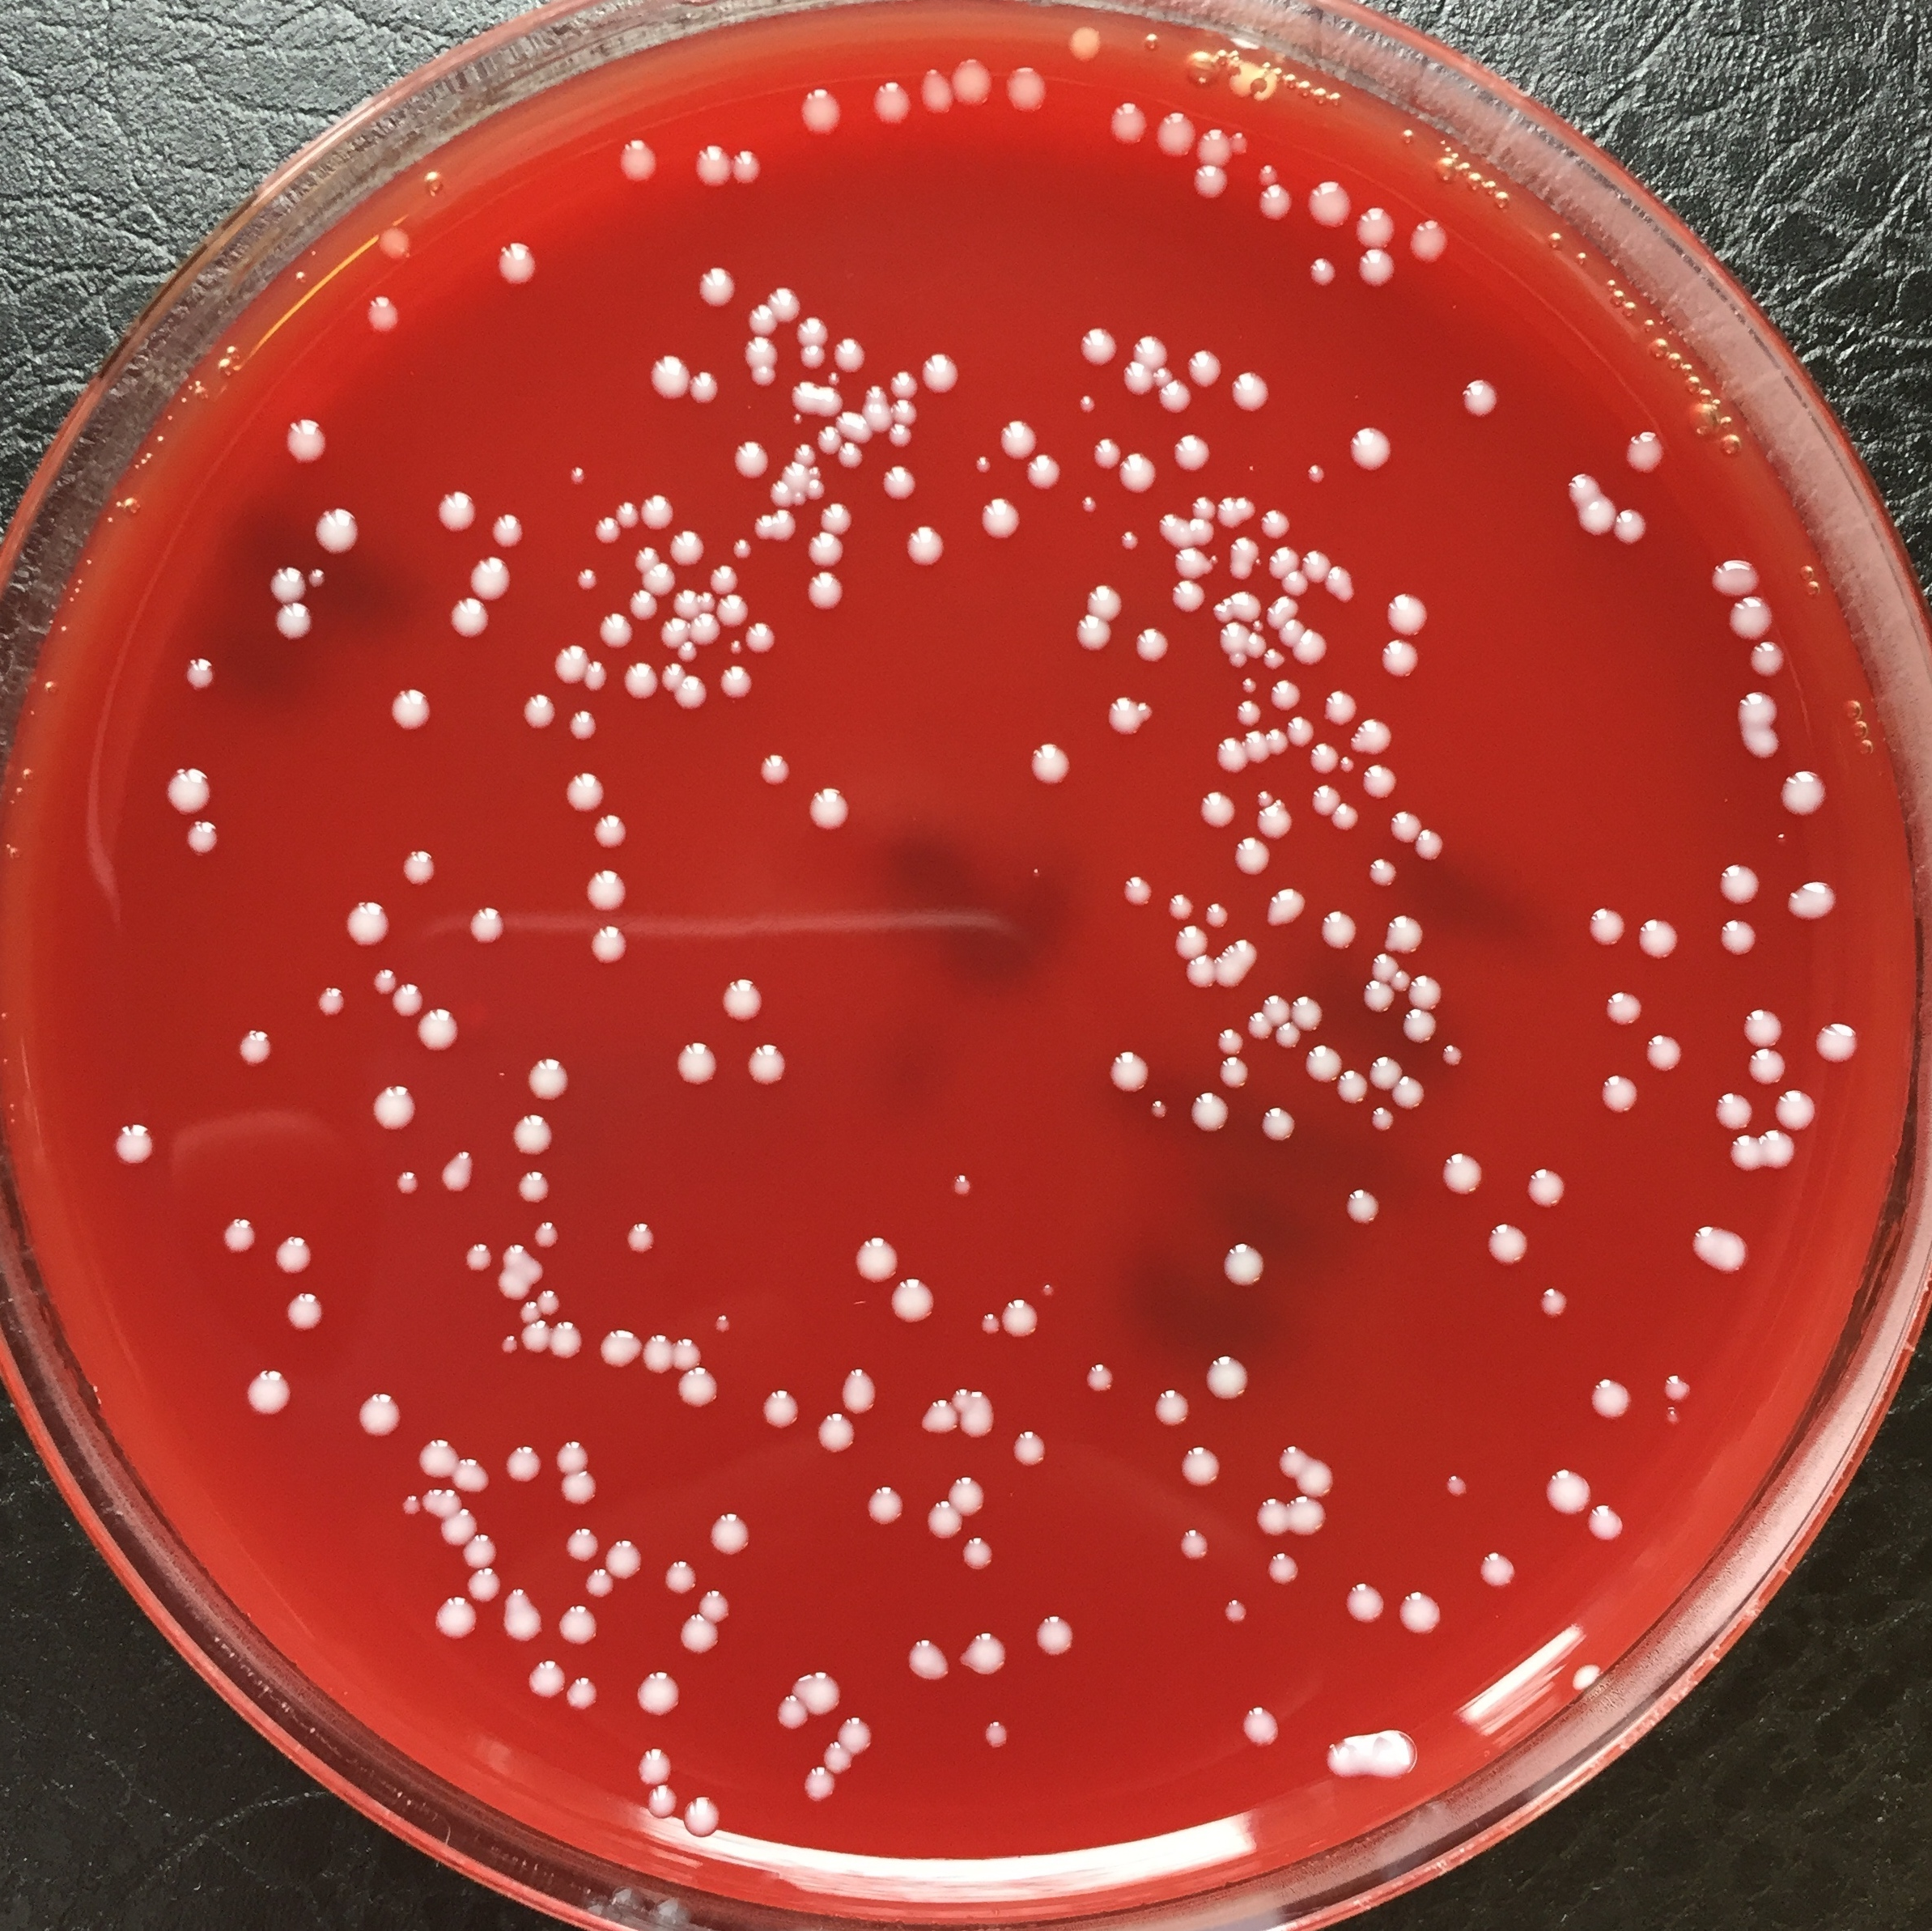sp22: (1684, 1218, 1757, 1280), (800, 771, 860, 842), (970, 492, 1035, 555), (1364, 1710, 1419, 1784), (1021, 732, 1076, 805), (743, 1027, 791, 1100), (382, 681, 439, 741), (954, 1622, 1010, 1682), (1215, 1233, 1270, 1293), (713, 969, 775, 1022), (897, 518, 947, 584), (341, 891, 395, 951), (492, 1241, 543, 1301), (849, 1229, 902, 1286), (702, 1505, 759, 1558), (108, 1114, 159, 1172), (242, 1363, 294, 1422), (865, 71, 913, 133), (159, 760, 212, 815), (901, 1634, 954, 1689), (354, 1383, 403, 1441), (1431, 1146, 1484, 1199), (1346, 419, 1398, 474), (1212, 937, 1261, 994), (1304, 175, 1352, 233), (1323, 1719, 1366, 1784), (582, 865, 633, 918), (1203, 1347, 1254, 1401), (791, 1666, 844, 1717), (364, 1080, 419, 1130), (1545, 1464, 1594, 1519), (356, 292, 412, 340), (952, 53, 994, 117), (1031, 1604, 1076, 1664), (281, 414, 333, 465), (671, 1034, 720, 1088), (1619, 424, 1668, 477), (1778, 767, 1831, 817), (584, 920, 632, 974), (1476, 1547, 1523, 1602), (862, 1473, 908, 1530), (1104, 95, 1148, 154), (502, 1586, 545, 1646), (633, 1669, 683, 1721), (1108, 693, 1157, 744), (524, 1050, 571, 1103), (1384, 587, 1431, 640), (1106, 1043, 1152, 1098), (798, 85, 842, 141), (750, 743, 800, 792), (508, 1109, 557, 1158), (1812, 1017, 1863, 1065), (433, 1144, 479, 1197), (674, 1367, 727, 1413), (1173, 1443, 1226, 1489), (315, 504, 361, 557), (1589, 1372, 1635, 1425), (1787, 879, 1842, 923), (1005, 60, 1047, 117), (1727, 591, 1776, 638), (1483, 1224, 1532, 1271), (1184, 1088, 1231, 1137), (180, 817, 226, 868), (1334, 1181, 1385, 1227), (467, 553, 513, 605), (614, 134, 658, 187), (694, 255, 738, 308), (419, 1003, 462, 1057), (996, 416, 1046, 462), (1339, 1581, 1389, 1627), (1228, 366, 1274, 416), (1405, 214, 1449, 265), (694, 140, 732, 196), (559, 767, 605, 815), (888, 1275, 936, 1321), (598, 1323, 644, 1370), (833, 1362, 879, 1409), (1396, 1588, 1442, 1636), (1353, 249, 1401, 295), (1522, 1164, 1568, 1211), (879, 462, 924, 511), (269, 1225, 313, 1275), (683, 1791, 724, 1844), (814, 1408, 860, 1454), (432, 488, 478, 534), (1171, 430, 1217, 476), (495, 239, 540, 286), (1154, 108, 1198, 156), (1585, 900, 1629, 948), (913, 1390, 955, 1439), (1598, 1070, 1640, 1119), (232, 1026, 276, 1072), (556, 1604, 602, 1648), (1235, 1701, 1279, 1747), (271, 603, 317, 647), (444, 596, 490, 640), (1718, 918, 1762, 964), (398, 843, 441, 891), (525, 1657, 568, 1705), (674, 1613, 724, 1653), (957, 1390, 998, 1439), (648, 352, 688, 401), (1150, 1386, 1194, 1431), (959, 1538, 1003, 1583), (375, 223, 419, 267), (1380, 909, 1424, 953), (1718, 861, 1762, 905), (1007, 1423, 1049, 1469), (1116, 449, 1159, 495), (1352, 205, 1398, 248), (1638, 1029, 1684, 1072), (435, 1595, 476, 1643), (1458, 375, 1499, 423), (1067, 614, 1115, 654), (1194, 783, 1235, 831), (1564, 1652, 1605, 1699), (467, 900, 506, 950), (761, 1385, 800, 1434), (1709, 553, 1759, 592), (548, 637, 586, 688), (283, 1291, 327, 1333), (1638, 916, 1681, 960), (1775, 1089, 1819, 1132), (1297, 1457, 1339, 1501), (557, 1469, 603, 1510), (807, 571, 847, 617), (1260, 886, 1306, 927), (458, 1568, 508, 1606), (1226, 534, 1263, 584), (637, 1740, 679, 1782), (418, 1434, 458, 1478), (1083, 580, 1127, 621), (1573, 499, 1617, 539), (1603, 985, 1644, 1029), (1587, 1505, 1628, 1549), (218, 1210, 257, 1256), (504, 1443, 543, 1489), (453, 1452, 492, 1498), (1320, 909, 1359, 955), (1288, 1494, 1327, 1540), (550, 1314, 586, 1363), (920, 352, 961, 394), (1743, 1049, 1785, 1089), (520, 690, 559, 734), (1256, 798, 1295, 842), (1348, 716, 1392, 755), (1736, 688, 1780, 727), (591, 813, 637, 851), (566, 1669, 602, 1717), (922, 65, 954, 118), (267, 562, 308, 603), (1748, 640, 1789, 681), (1233, 836, 1274, 877), (1304, 1042, 1345, 1082), (621, 1217, 660, 1259), (1263, 1546, 1302, 1588), (485, 508, 527, 546), (1077, 325, 1116, 368), (1322, 686, 1361, 729), (1258, 1107, 1300, 1146), (605, 1535, 642, 1579), (639, 488, 676, 532), (718, 663, 755, 707), (1003, 1296, 1039, 1342), (437, 1510, 483, 1546), (623, 660, 658, 706), (1065, 21, 1100, 67), (310, 980, 349, 1020), (391, 978, 430, 1019), (948, 1473, 987, 1514), (1189, 163, 1230, 202), (1302, 253, 1341, 294), (1132, 624, 1173, 663), (1364, 1049, 1403, 1089), (552, 1436, 594, 1473), (1714, 1088, 1752, 1130), (1253, 1496, 1288, 1540), (1323, 562, 1359, 607), (862, 384, 895, 430), (1399, 1011, 1445, 1045), (732, 439, 771, 477), (180, 654, 221, 691), (656, 1558, 697, 1595), (458, 1530, 495, 1570), (925, 1501, 962, 1542), (1380, 642, 1421, 679), (1566, 467, 1603, 508), (1739, 725, 1780, 762), (1741, 1006, 1782, 1043), (1760, 1130, 1798, 1171), (803, 536, 853, 566), (1615, 502, 1647, 548), (835, 1713, 872, 1752), (669, 527, 708, 564), (837, 410, 876, 447), (1173, 1528, 1214, 1563), (741, 334, 782, 370), (1196, 122, 1231, 163), (1256, 184, 1292, 225), (1187, 347, 1223, 387), (690, 368, 724, 410), (1290, 990, 1323, 1033), (1727, 1137, 1760, 1179), (672, 1328, 704, 1372), (732, 145, 764, 189), (1120, 874, 1157, 911), (1171, 925, 1208, 962), (1334, 1072, 1371, 1109), (1026, 449, 1062, 488), (1086, 431, 1122, 470), (1536, 1284, 1571, 1323), (563, 1524, 596, 1565), (821, 1740, 855, 1781), (671, 675, 711, 709), (1159, 508, 1191, 550), (1171, 548, 1219, 576), (644, 1332, 674, 1376), (1215, 732, 1246, 776), (582, 1565, 619, 1600), (568, 709, 603, 746), (1408, 973, 1444, 1010), (833, 332, 867, 371), (1297, 631, 1330, 670), (768, 281, 800, 322), (697, 1586, 732, 1622), (644, 1779, 679, 1814), (596, 612, 632, 647), (1155, 380, 1191, 416), (1361, 764, 1396, 799), (718, 591, 752, 628), (1389, 805, 1422, 842), (775, 1694, 807, 1733), (823, 497, 855, 536), (1274, 1439, 1306, 1478), (1258, 506, 1290, 545), (423, 1484, 464, 1514), (456, 1240, 492, 1273), (518, 1169, 552, 1204), (801, 1768, 837, 1802), (640, 564, 676, 598), (1132, 332, 1168, 366), (1394, 1077, 1428, 1112), (1265, 591, 1299, 626), (520, 1321, 552, 1358), (1231, 589, 1263, 626), (1417, 829, 1444, 874), (584, 658, 614, 697), (1304, 545, 1332, 585), (1083, 1360, 1116, 1393), (745, 302, 778, 336), (1307, 741, 1341, 775), (1270, 677, 1304, 711), (794, 315, 830, 347), (982, 1715, 1012, 1752), (745, 621, 775, 658), (1122, 361, 1152, 398), (1182, 957, 1212, 994), (628, 585, 656, 624), (1263, 545, 1302, 573), (791, 377, 817, 417), (1359, 983, 1392, 1015), (1277, 619, 1311, 651), (533, 1217, 563, 1252), (690, 614, 720, 649), (1173, 582, 1208, 612), (771, 508, 800, 545), (1244, 1008, 1272, 1045), (890, 368, 922, 400), (1442, 1471, 1474, 1503), (1221, 1593, 1251, 1627), (393, 1165, 419, 1202), (1242, 729, 1269, 766), (1364, 856, 1401, 882), (370, 965, 400, 997), (890, 398, 922, 428), (1219, 1059, 1251, 1089), (662, 615, 690, 649), (777, 460, 810, 488), (1311, 782, 1339, 815), (948, 1167, 975, 1202), (970, 447, 1000, 477), (817, 385, 847, 416), (1663, 1374, 1693, 1404), (1219, 624, 1249, 654), (1329, 801, 1357, 833), (593, 515, 619, 548), (1265, 990, 1290, 1026), (1070, 486, 1100, 515), (612, 499, 642, 527), (709, 564, 740, 592), (1233, 697, 1261, 727), (1214, 1026, 1242, 1056), (1288, 713, 1313, 746), (1276, 573, 1311, 596), (1440, 1043, 1468, 1072), (1369, 953, 1398, 981), (1368, 1109, 1396, 1137), (1191, 520, 1217, 550), (839, 440, 863, 472), (1168, 891, 1192, 923), (1219, 486, 1237, 530), (817, 424, 840, 458), (1265, 725, 1288, 759), (564, 460, 591, 488), (573, 564, 600, 592), (633, 546, 662, 573), (1116, 527, 1145, 553), (660, 661, 685, 691), (1302, 460, 1332, 485), (1274, 1024, 1299, 1054), (398, 1489, 421, 1521), (754, 508, 775, 541), (791, 440, 817, 467), (534, 1286, 563, 1310), (890, 426, 918, 451), (796, 345, 826, 368), (1230, 124, 1249, 159), (768, 481, 794, 506), (1205, 900, 1230, 927), (977, 1310, 1000, 1339), (1233, 493, 1256, 522), (1210, 594, 1231, 624), (708, 1310, 732, 1335), (674, 591, 699, 615), (1246, 635, 1270, 660), (308, 566, 331, 592), (1661, 1406, 1684, 1432), (495, 1332, 517, 1360), (513, 1301, 543, 1321), (727, 536, 752, 559), (678, 640, 702, 663), (1254, 163, 1279, 186), (1191, 497, 1215, 520), (748, 368, 775, 389), (1076, 393, 1099, 416), (695, 591, 720, 612), (1152, 364, 1177, 385), (1261, 645, 1286, 667), (1226, 651, 1253, 668), (789, 488, 810, 509), (1035, 1278, 1058, 1298), (1253, 785, 1274, 805), (1392, 969, 1407, 994), (809, 479, 826, 499), (1339, 755, 1355, 775), (1150, 1100, 1168, 1116), (828, 371, 844, 389), (1244, 677, 1260, 695), (729, 638, 743, 656), (791, 412, 803, 431), (809, 467, 824, 479), (1254, 621, 1265, 633)
